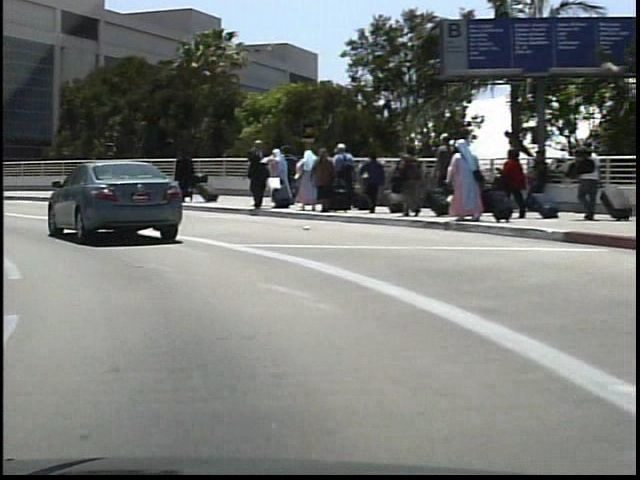person: (563, 137, 599, 224), (239, 136, 266, 212), (170, 146, 198, 213), (240, 145, 265, 210), (179, 153, 199, 197)
